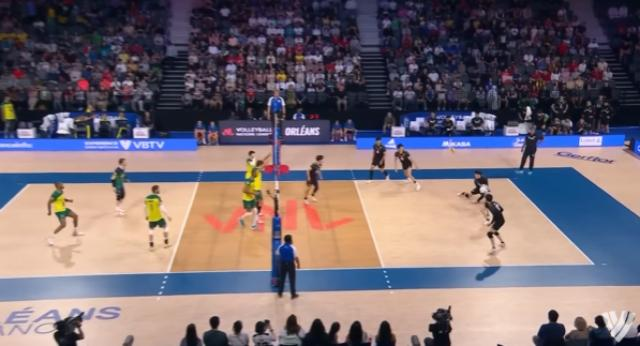Levantador: (140, 181, 177, 251), (301, 152, 325, 204)
Libero: (108, 155, 134, 220)
bola: (445, 144, 461, 160)
